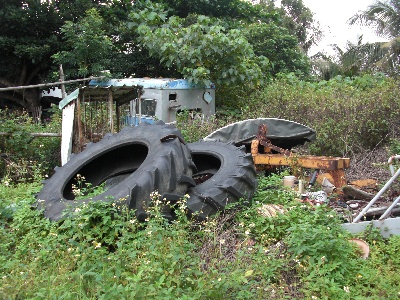tire: (38, 118, 197, 231)
